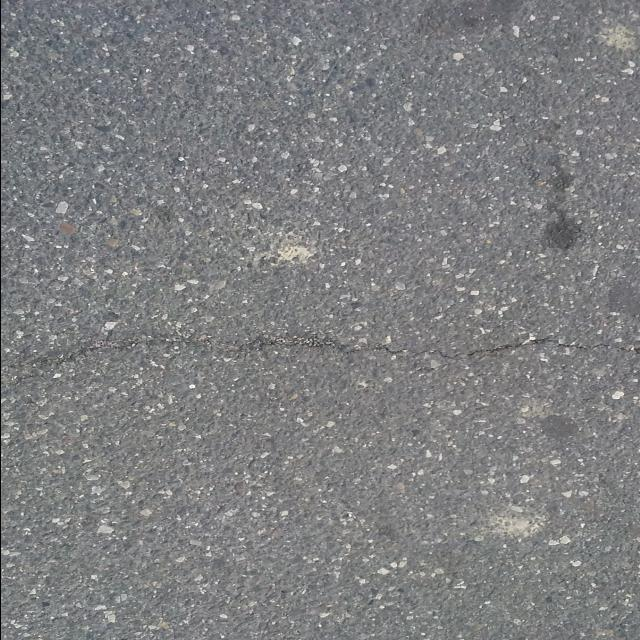Crack: (0, 334, 640, 384)
